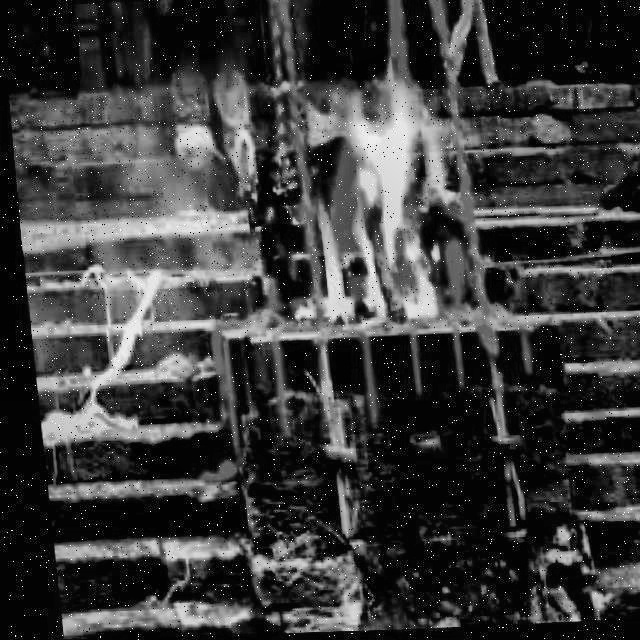Fire: (273, 72, 442, 333)
